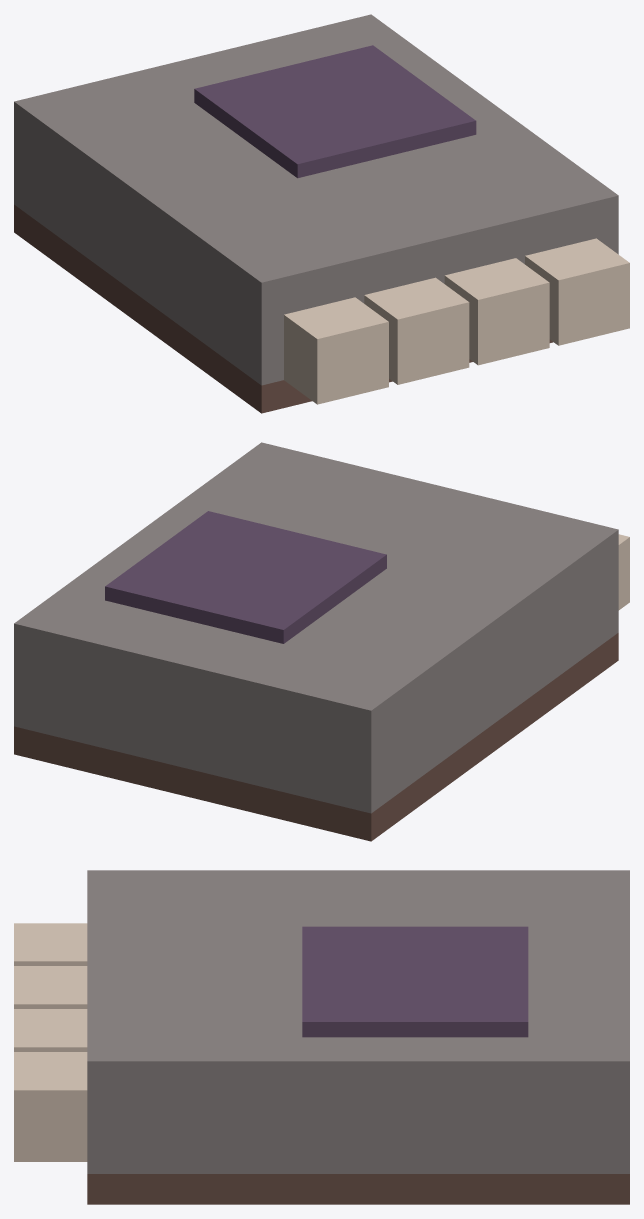
File: inf_possum_foot_r.fbx
3 views of the same model, one above another, from view 1: azimuth 30°, elevation 25°; view 2: azimuth 150°, elevation 25°; view 3: azimuth 270°, elevation 25° (orthographic). The views are drawn at different scales.
Parts seen in each view (by area): view 1: inf_possum_foot_r; view 2: inf_possum_foot_r; view 3: inf_possum_foot_r.
Boxes of the visible parts, <box> form: inf_possum_foot_r: <box>14,14,629,413</box>; inf_possum_foot_r: <box>14,442,629,841</box>; inf_possum_foot_r: <box>14,870,629,1204</box>.
Bounding box in the file's own units: 80 × 31 × 109.
